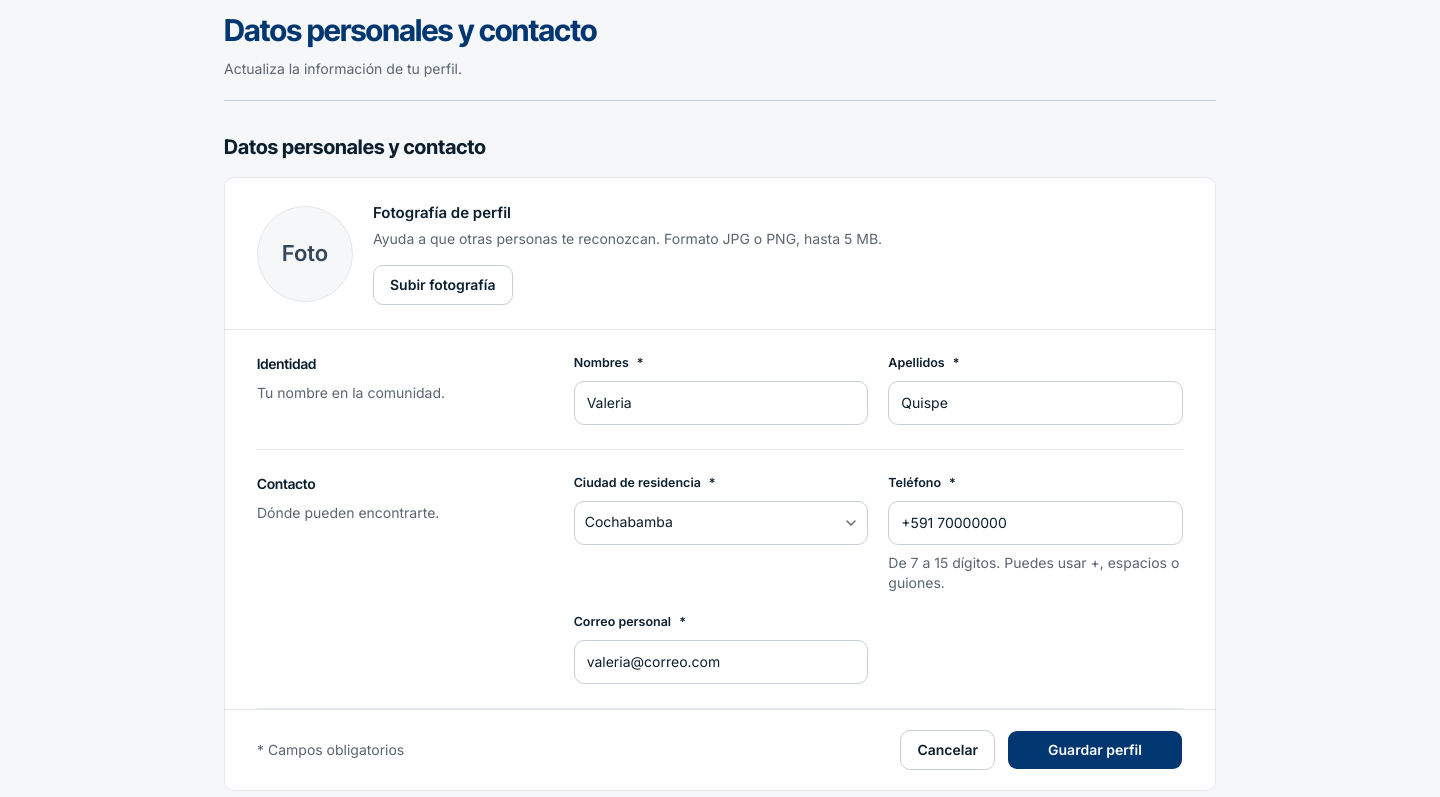
Test case: PersonalInfoView › restores the saved values when cancelling after saving
The width and height of the screenshot is (1440, 797).
In the field labelled "Nombres *": (721, 403) [574,381,868,425], type " Andrea"
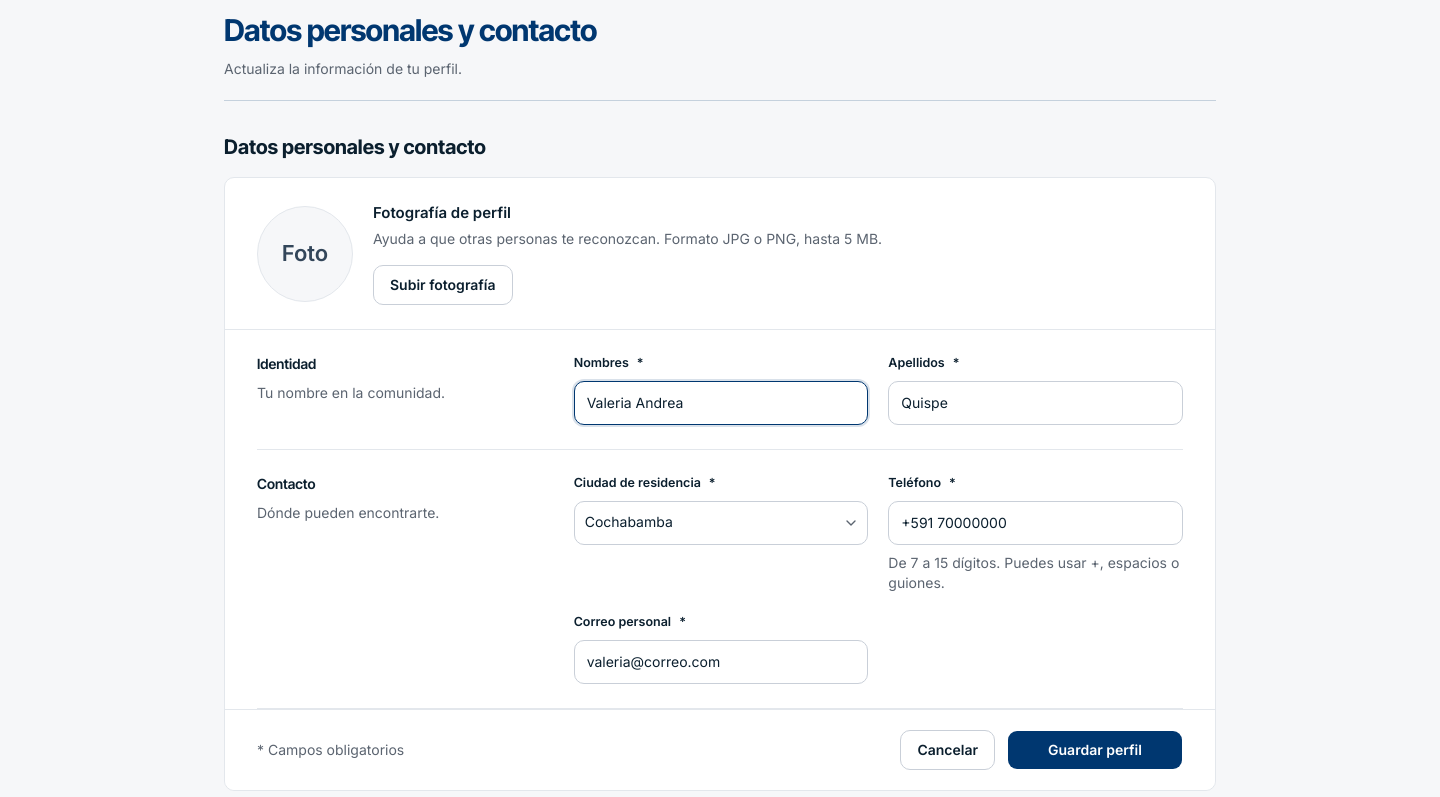
Click the button "Guardar perfil": (1095, 750) [1007,730,1183,770]
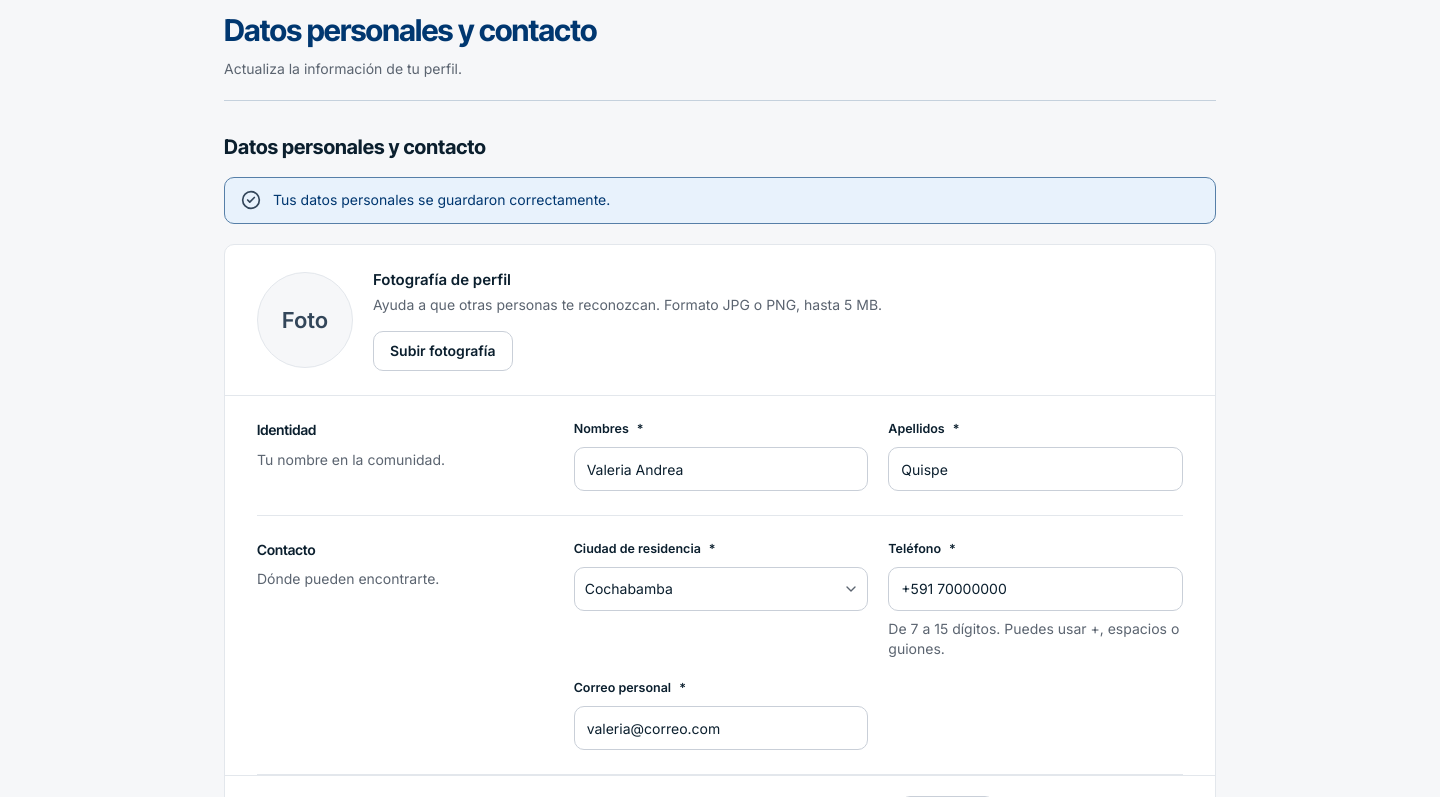
Now the text "Tus datos personales se guardaron correctamente." is shown, box [273,190,610,211]
In the field labelled "Nombres *": (721, 469) [574,447,868,491], type " changed"
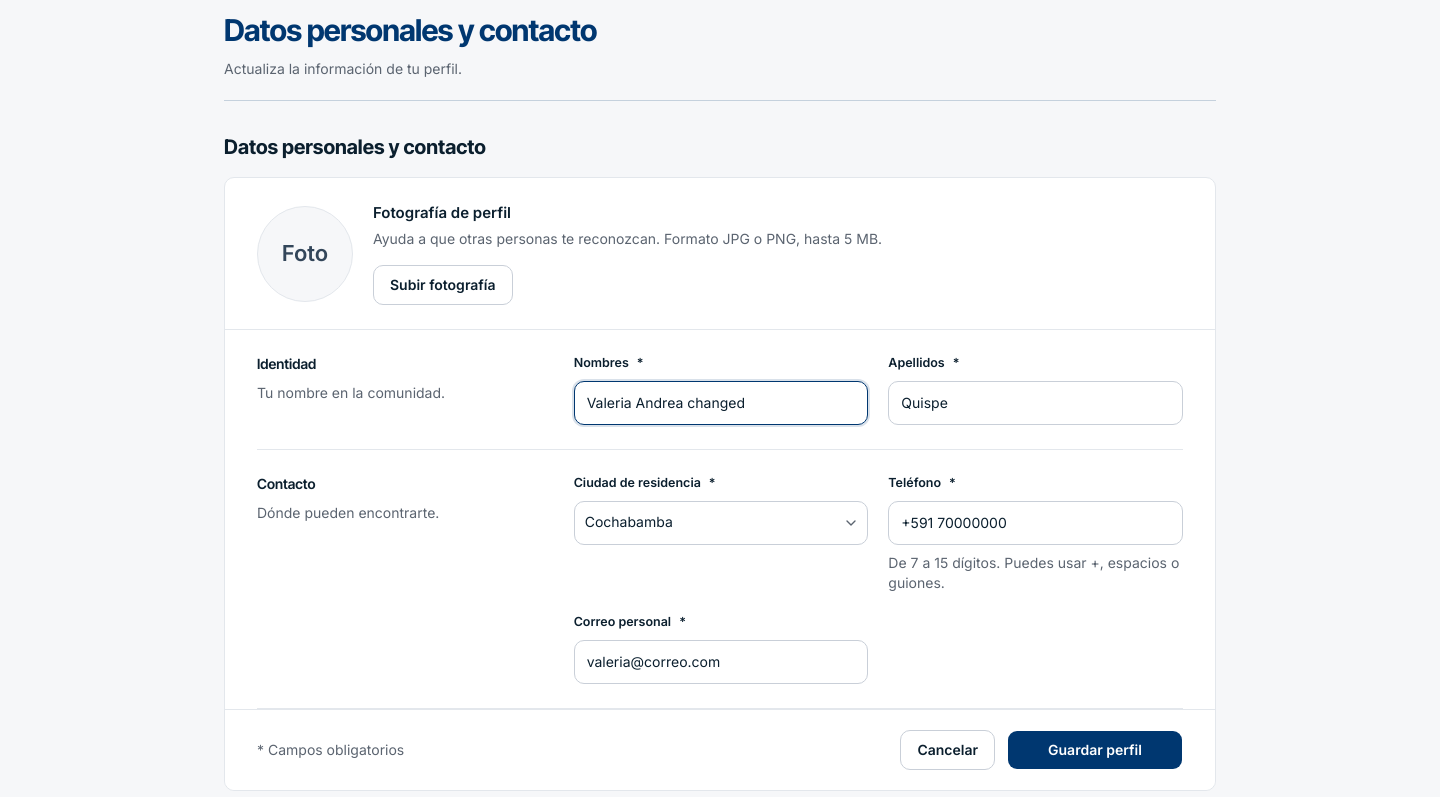
Click the button "Cancelar": (948, 750) [900,730,995,770]
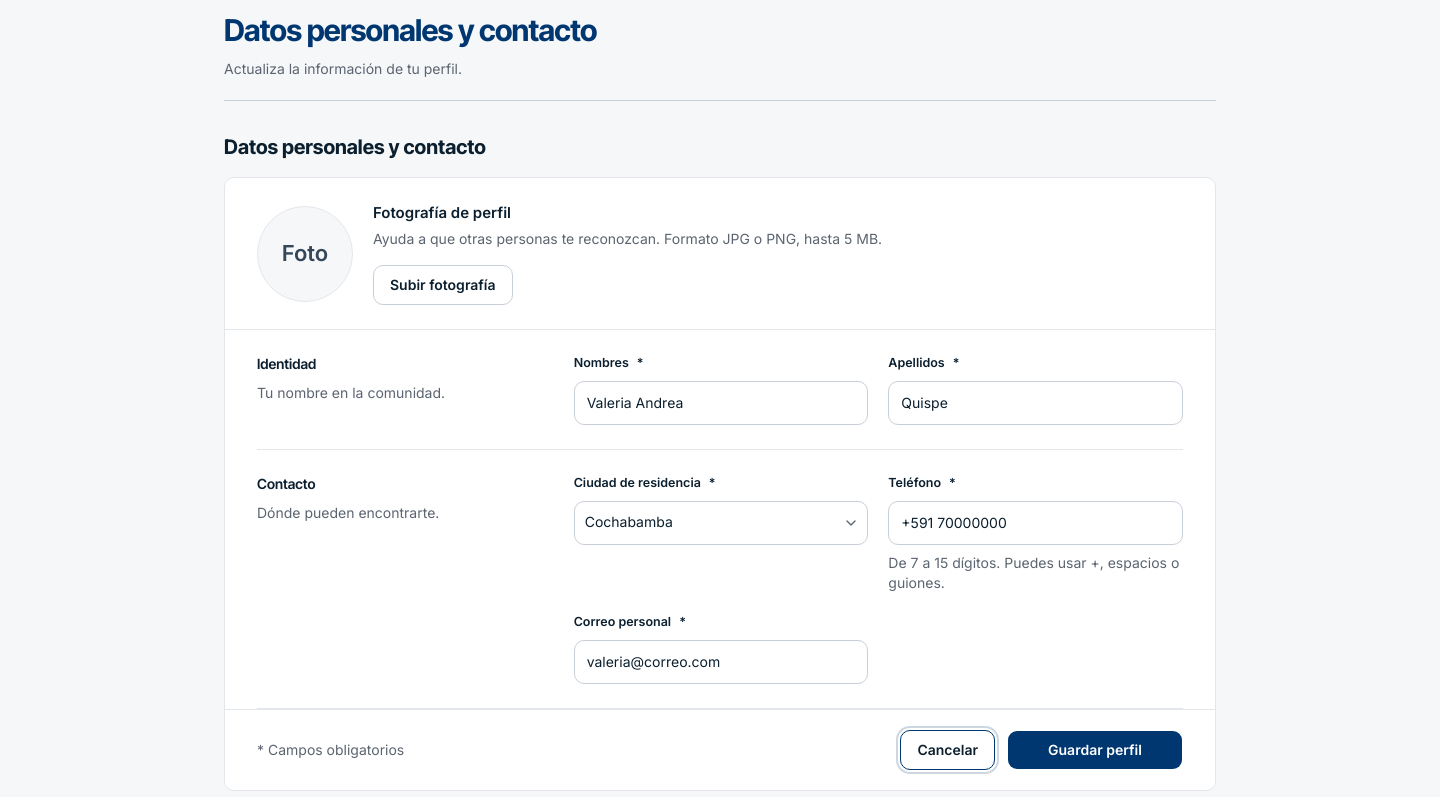
Now the field labelled "Nombres *" holds "Valeria Andrea", box [574,381,868,425]
